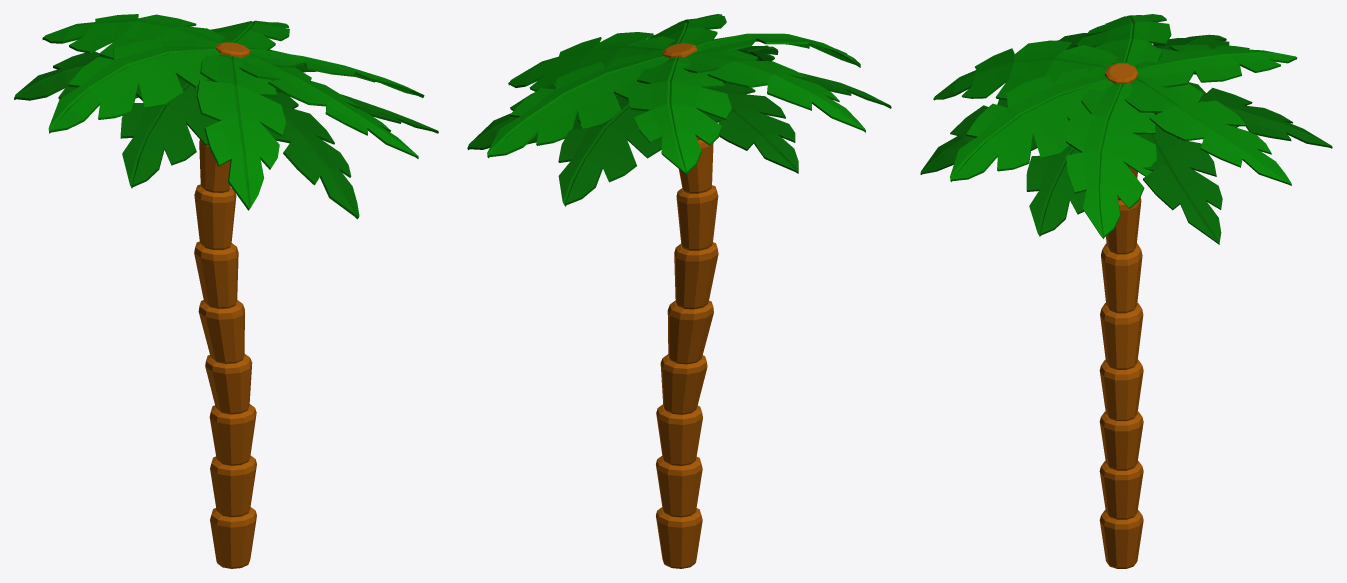
The model's file is TA-Tree-palm_10mts.fbx.
The picture shows the model from 3 angles, left to right: view 1: azimuth 30°, elevation 25°; view 2: azimuth 150°, elevation 25°; view 3: azimuth 270°, elevation 25°; orthographic projection. The views are drawn at different scales.
Parts seen in each view (by area): view 1: palm; view 2: palm; view 3: palm.
Boxes of the visible parts, left/top/right/bottom form: palm: left=14, top=14, right=438, bottom=568; palm: left=467, top=14, right=891, bottom=568; palm: left=920, top=14, right=1332, bottom=568.
Bounding box in the file's own units: 7.39 × 10.04 × 7.54.
Materials: 1 (1 with a texture image).
